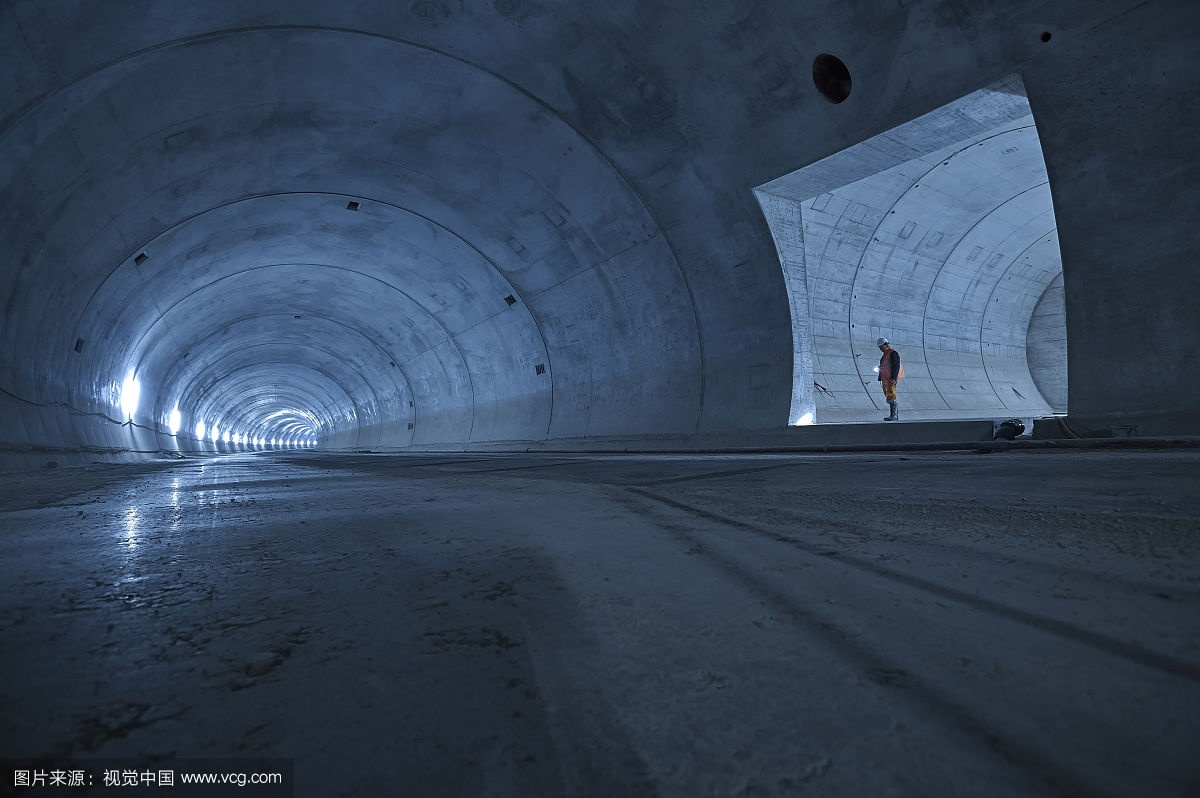white: (875, 336, 889, 352)
